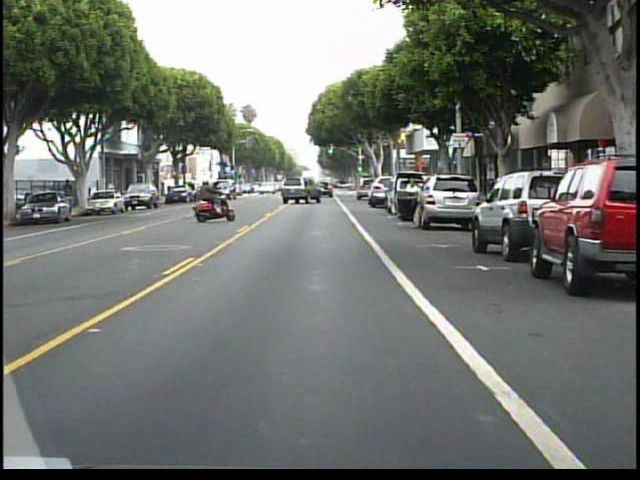person: (402, 171, 432, 235), (188, 175, 218, 218), (61, 175, 78, 211)
